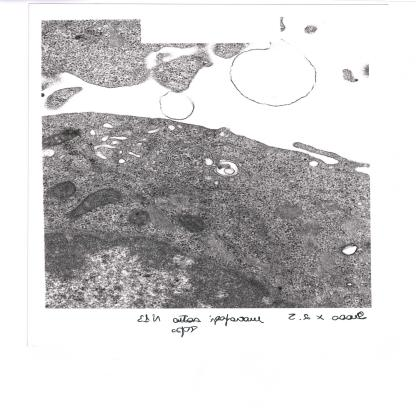mitochondria: (67, 187, 123, 220), (42, 129, 80, 149), (47, 181, 78, 200), (178, 215, 206, 233), (274, 204, 304, 219), (126, 210, 151, 226)
